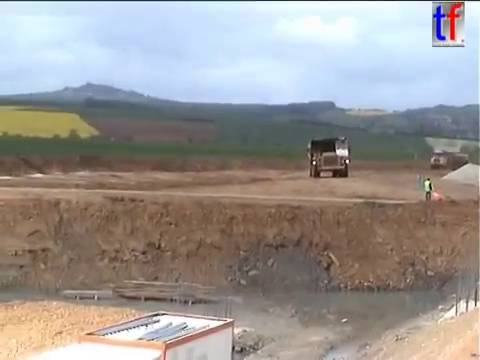truck: (306, 135, 352, 178), (428, 148, 450, 170), (448, 152, 469, 171)
worker: (421, 175, 436, 202)
